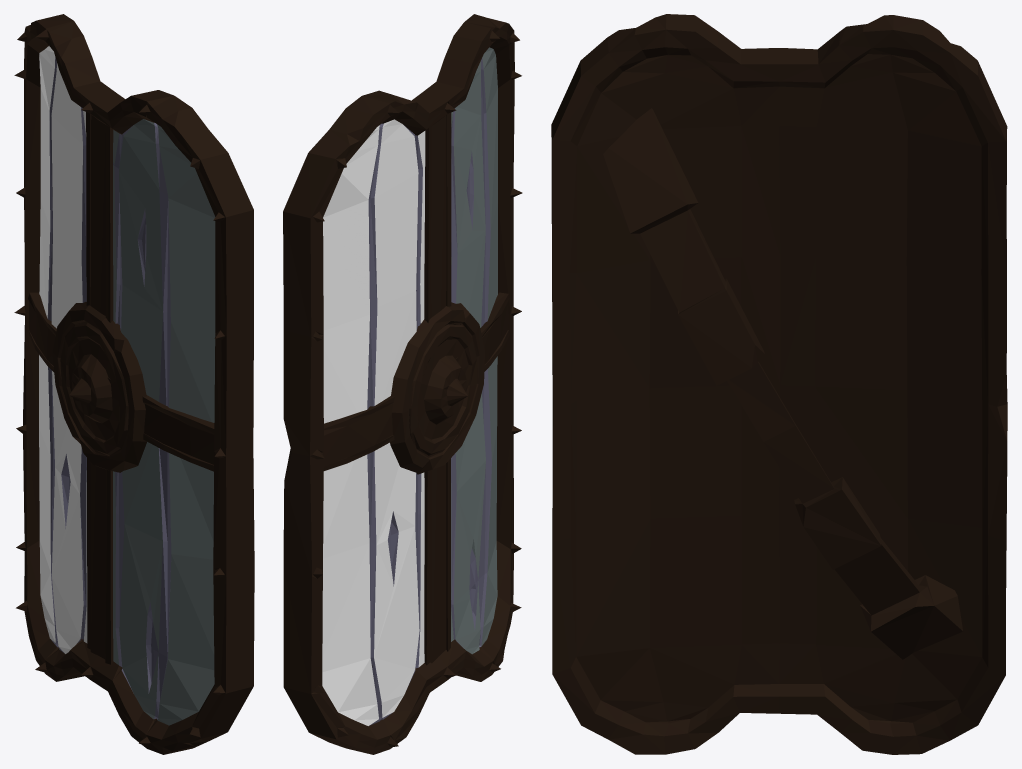
Rendered from SFFA_Shield_Wooden_008.fbx.
3 views of the same model, side by side, from view 1: azimuth 30°, elevation 25°; view 2: azimuth 150°, elevation 25°; view 3: azimuth 270°, elevation 25° (orthographic). The views are drawn at different scales.
Visible parts, largest first — view 1: SFFA_Shield_Wooden_008; view 2: SFFA_Shield_Wooden_008; view 3: SFFA_Shield_Wooden_008.
Boxes of the visible parts, x1,y1,x2,y2 form: SFFA_Shield_Wooden_008: (14, 14, 254, 754); SFFA_Shield_Wooden_008: (283, 14, 522, 754); SFFA_Shield_Wooden_008: (551, 14, 1007, 754).
Size of the model in its own units: 28.16 by 118 by 67.34.
